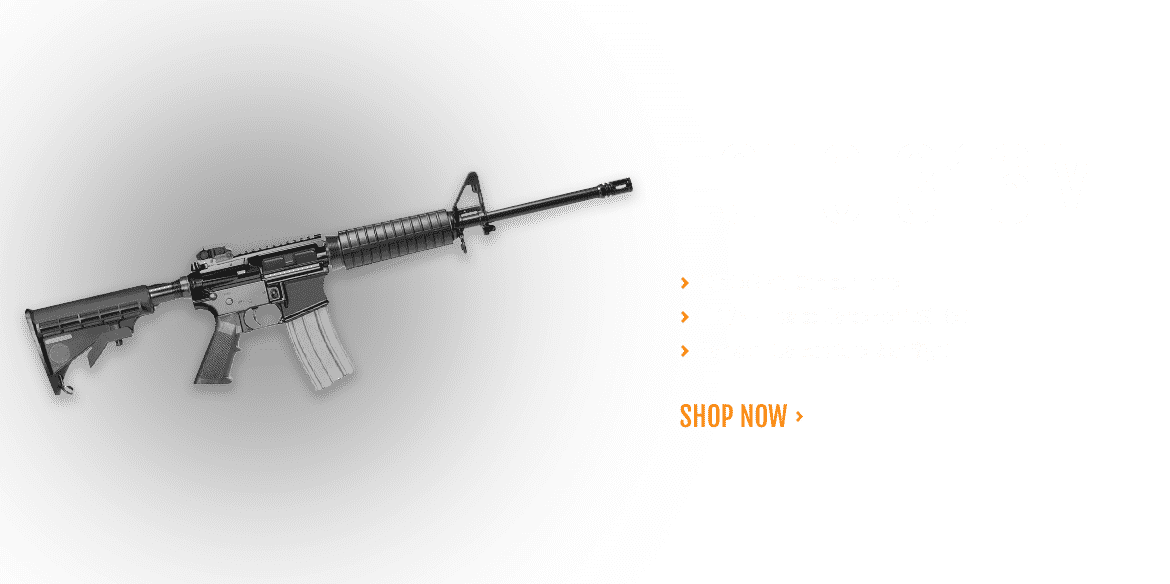Gun: (134, 181, 618, 394)
